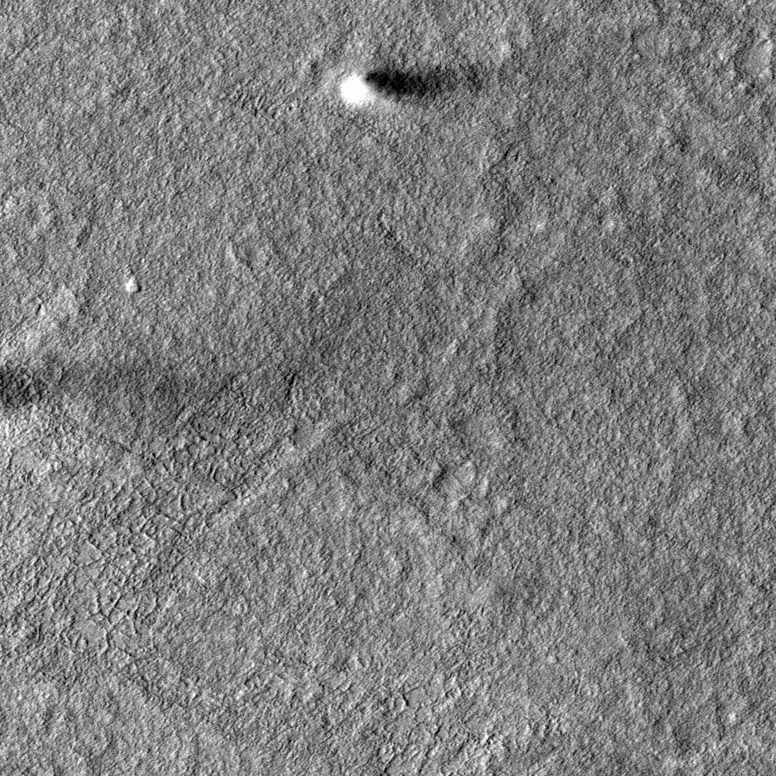dust_devil: (338, 57, 484, 110)
